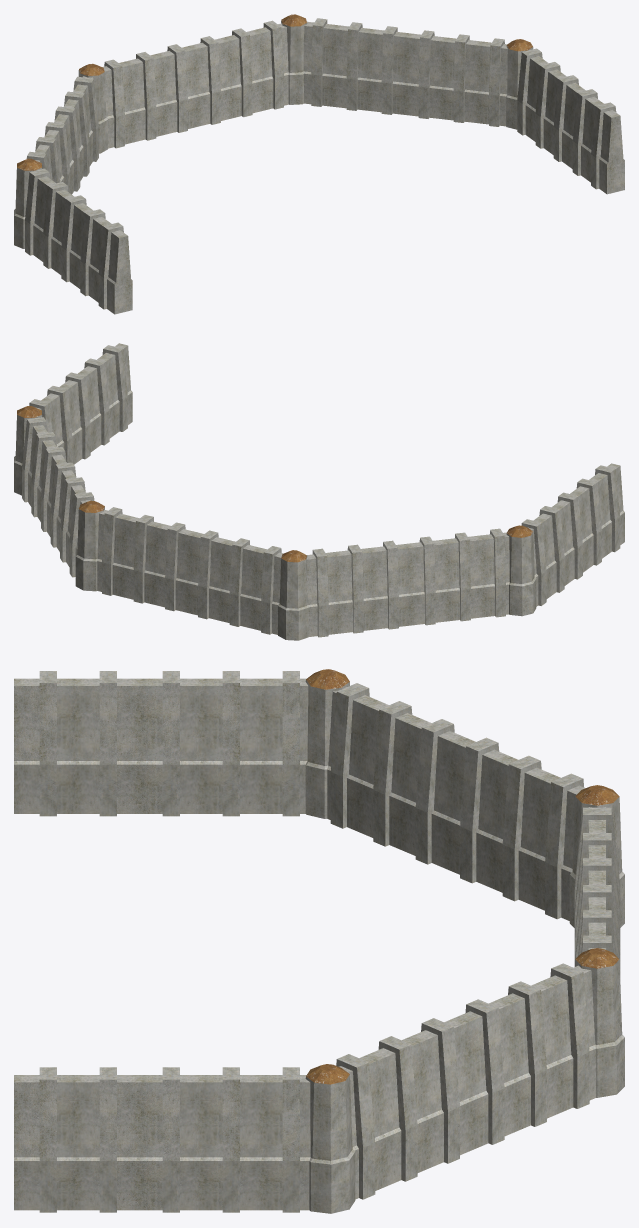
Rendered from poi_all_rebl_corral_half_64x64_s01_l0.fbx.
3 renders of one model, top to bottom at view 1: azimuth 30°, elevation 25°; view 2: azimuth 150°, elevation 25°; view 3: azimuth 270°, elevation 25°, orthographic. The views are drawn at different scales.
Parts seen in each view (by area): view 1: mesh_node; view 2: mesh_node; view 3: mesh_node.
Boxes of the visible parts, bbox=[...] form: mesh_node: bbox=[14, 14, 624, 314]; mesh_node: bbox=[14, 343, 624, 640]; mesh_node: bbox=[14, 669, 624, 1213].
Size of the model in its own units: 43.23 by 6.5 by 26.71.
